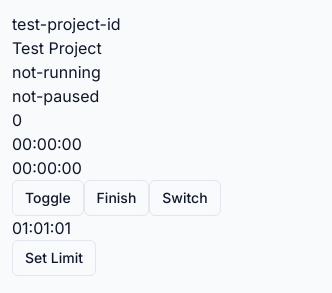
Test: TimerContext › toggleTimer starts the timer when not running
Expected: the text with test id "project-id" reads "test-project-id", [12,14,121,34]
# Запускаем таймер
Click the button with test id "toggle-timer".
click(48, 198)  # box [12,180,84,216]
Wait 5000 ms
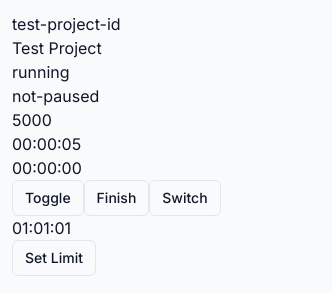
Expected: the text with test id "is-paused" reads "not-paused", [12,86,99,106]
Expected: the text with test id "is-running" reads "running", [12,62,70,82]
